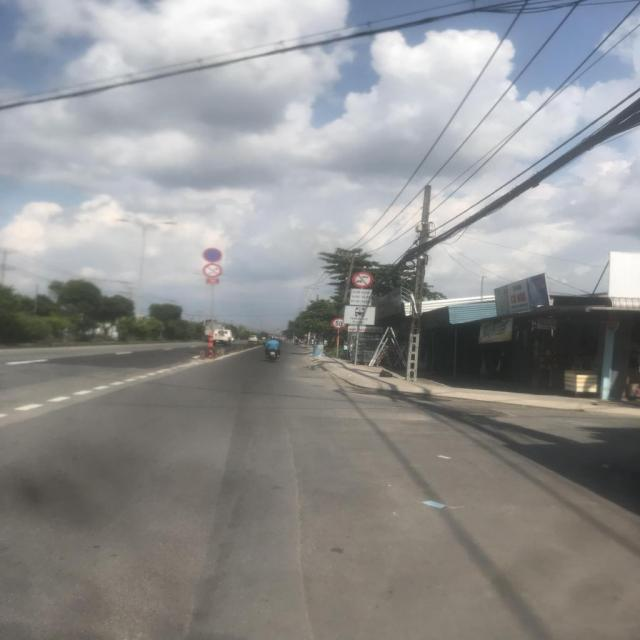cam_dung_xe_va_do_xe: (203, 248, 222, 262)
cam_o_to_tai_va_xe_khach: (353, 272, 373, 288)
cam_xe_2_banh_va_xe_3_banh_co_dong_co: (203, 264, 222, 278)
giao_nhau_voi_duong_khong_uu_tien: (304, 333, 308, 336)
khac: (344, 306, 375, 324), (349, 288, 372, 305)
toc_do_toi_da_50: (331, 318, 346, 329)
